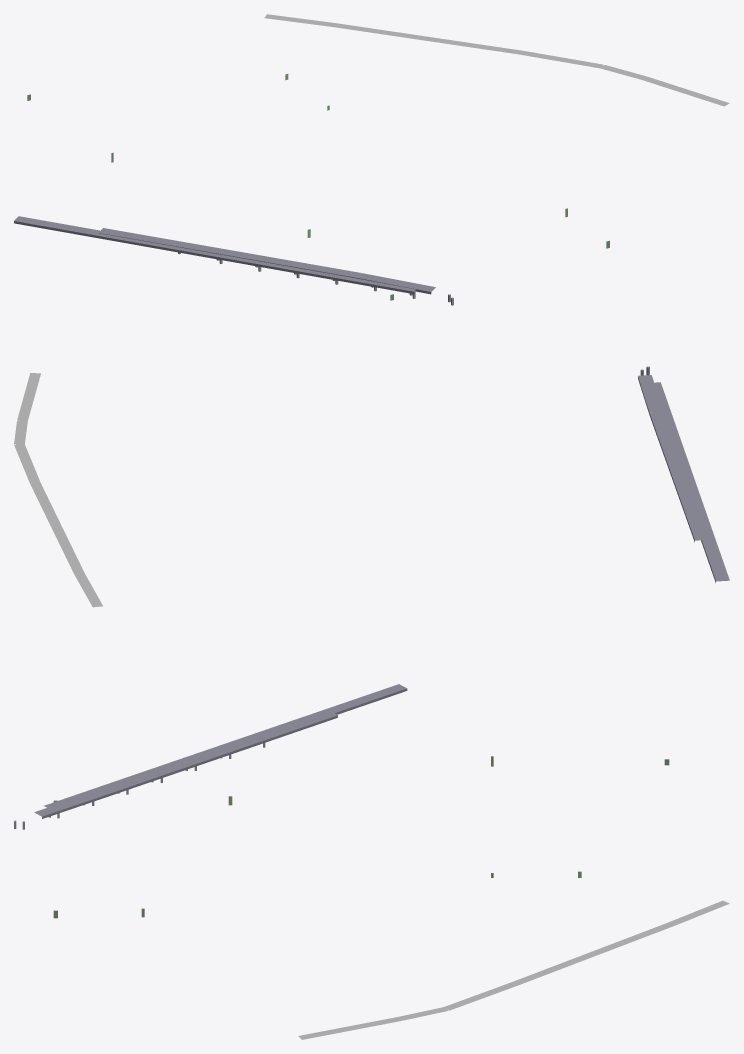
3 renders of one model, top to bottom at view 1: azimuth 30°, elevation 25°; view 2: azimuth 150°, elevation 25°; view 3: azimuth 270°, elevation 25°, orthographic. The views are drawn at different scales.
Bounding box in the file's own units: 558 × 10.78 × 492.
